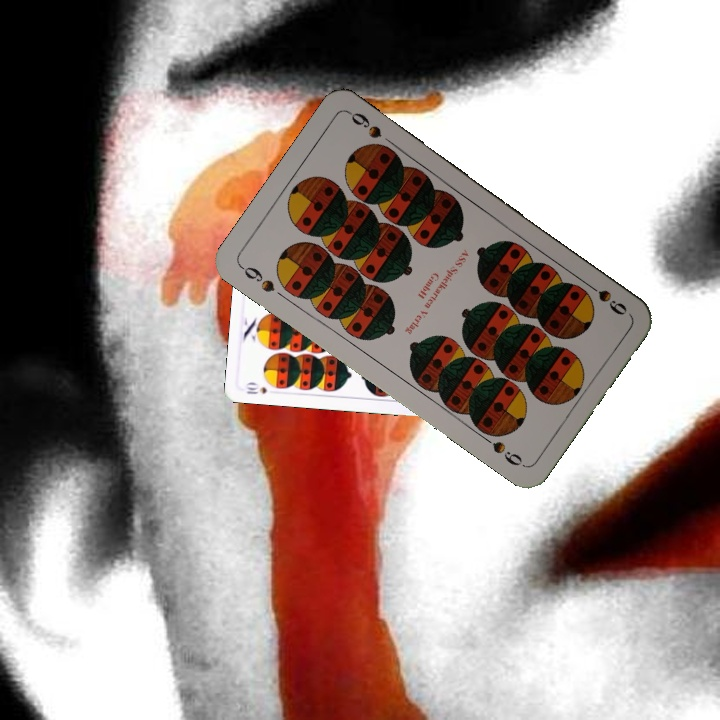S10: (242, 379, 270, 397)
S9: (579, 277, 630, 319), (236, 261, 278, 296)
